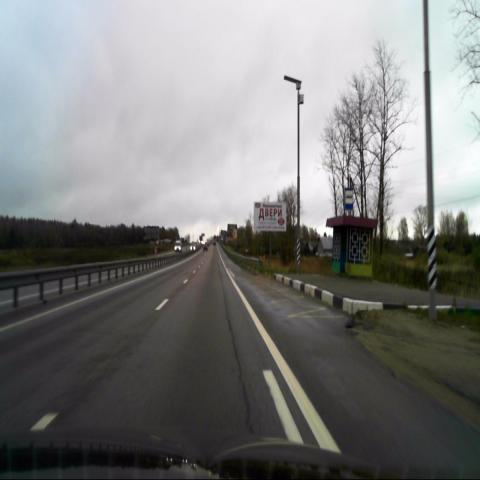5_16: (344, 188, 353, 209)
